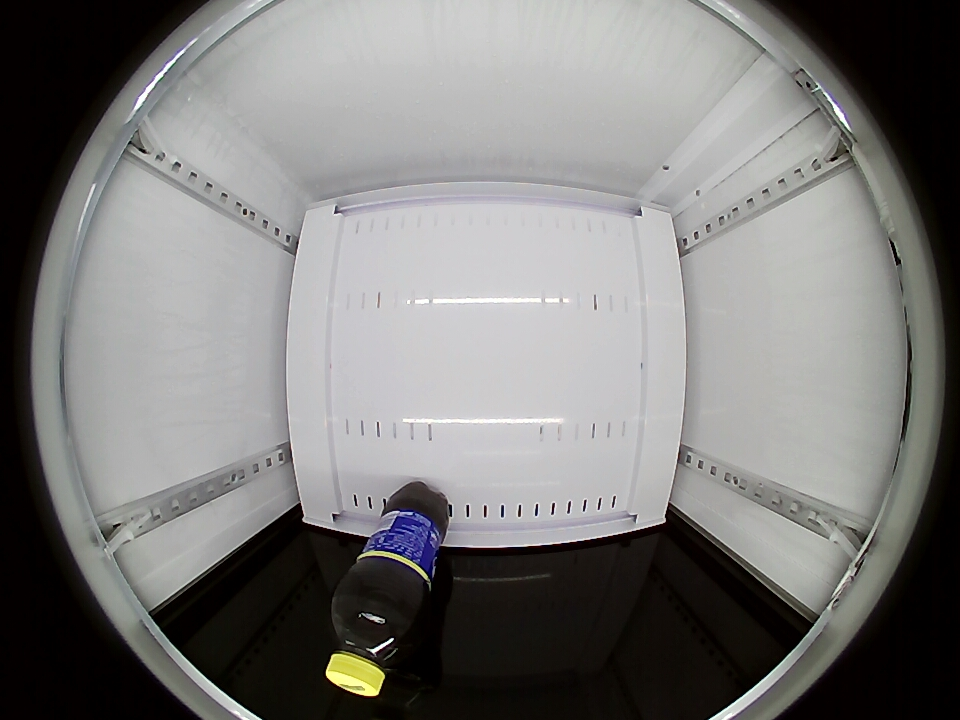baishikele: (326, 589, 423, 697)
